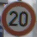20 km speed: (1, 1, 36, 37)
